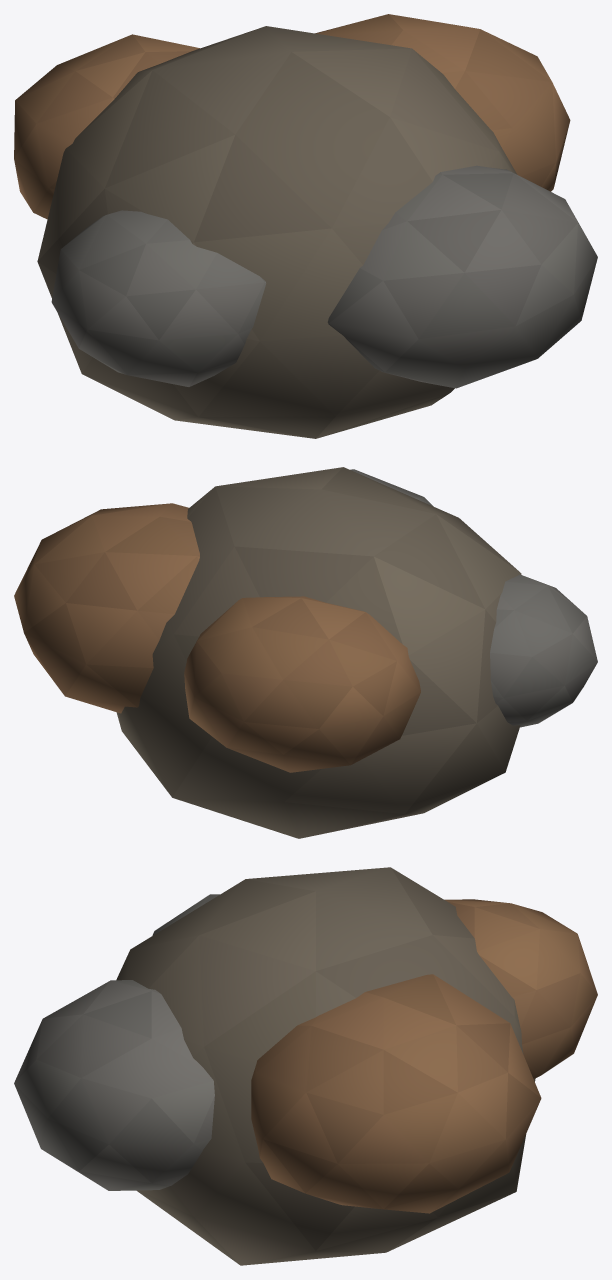
The model's file is scree_pebbles.glb.
The picture shows the model from 3 angles, top to bottom: view 1: azimuth 30°, elevation 25°; view 2: azimuth 150°, elevation 25°; view 3: azimuth 270°, elevation 25°; orthographic projection. The views are drawn at different scales.
Visible parts, largest first — view 1: Mesh; view 2: Mesh; view 3: Mesh.
Part boxes in pixels (x1=…): Mesh: x1=14, y1=14, x2=597, y2=438; Mesh: x1=14, y1=467, x2=597, y2=838; Mesh: x1=14, y1=867, x2=597, y2=1265.
Size of the model in its own units: 0.4351 by 0.2752 by 0.4247.
